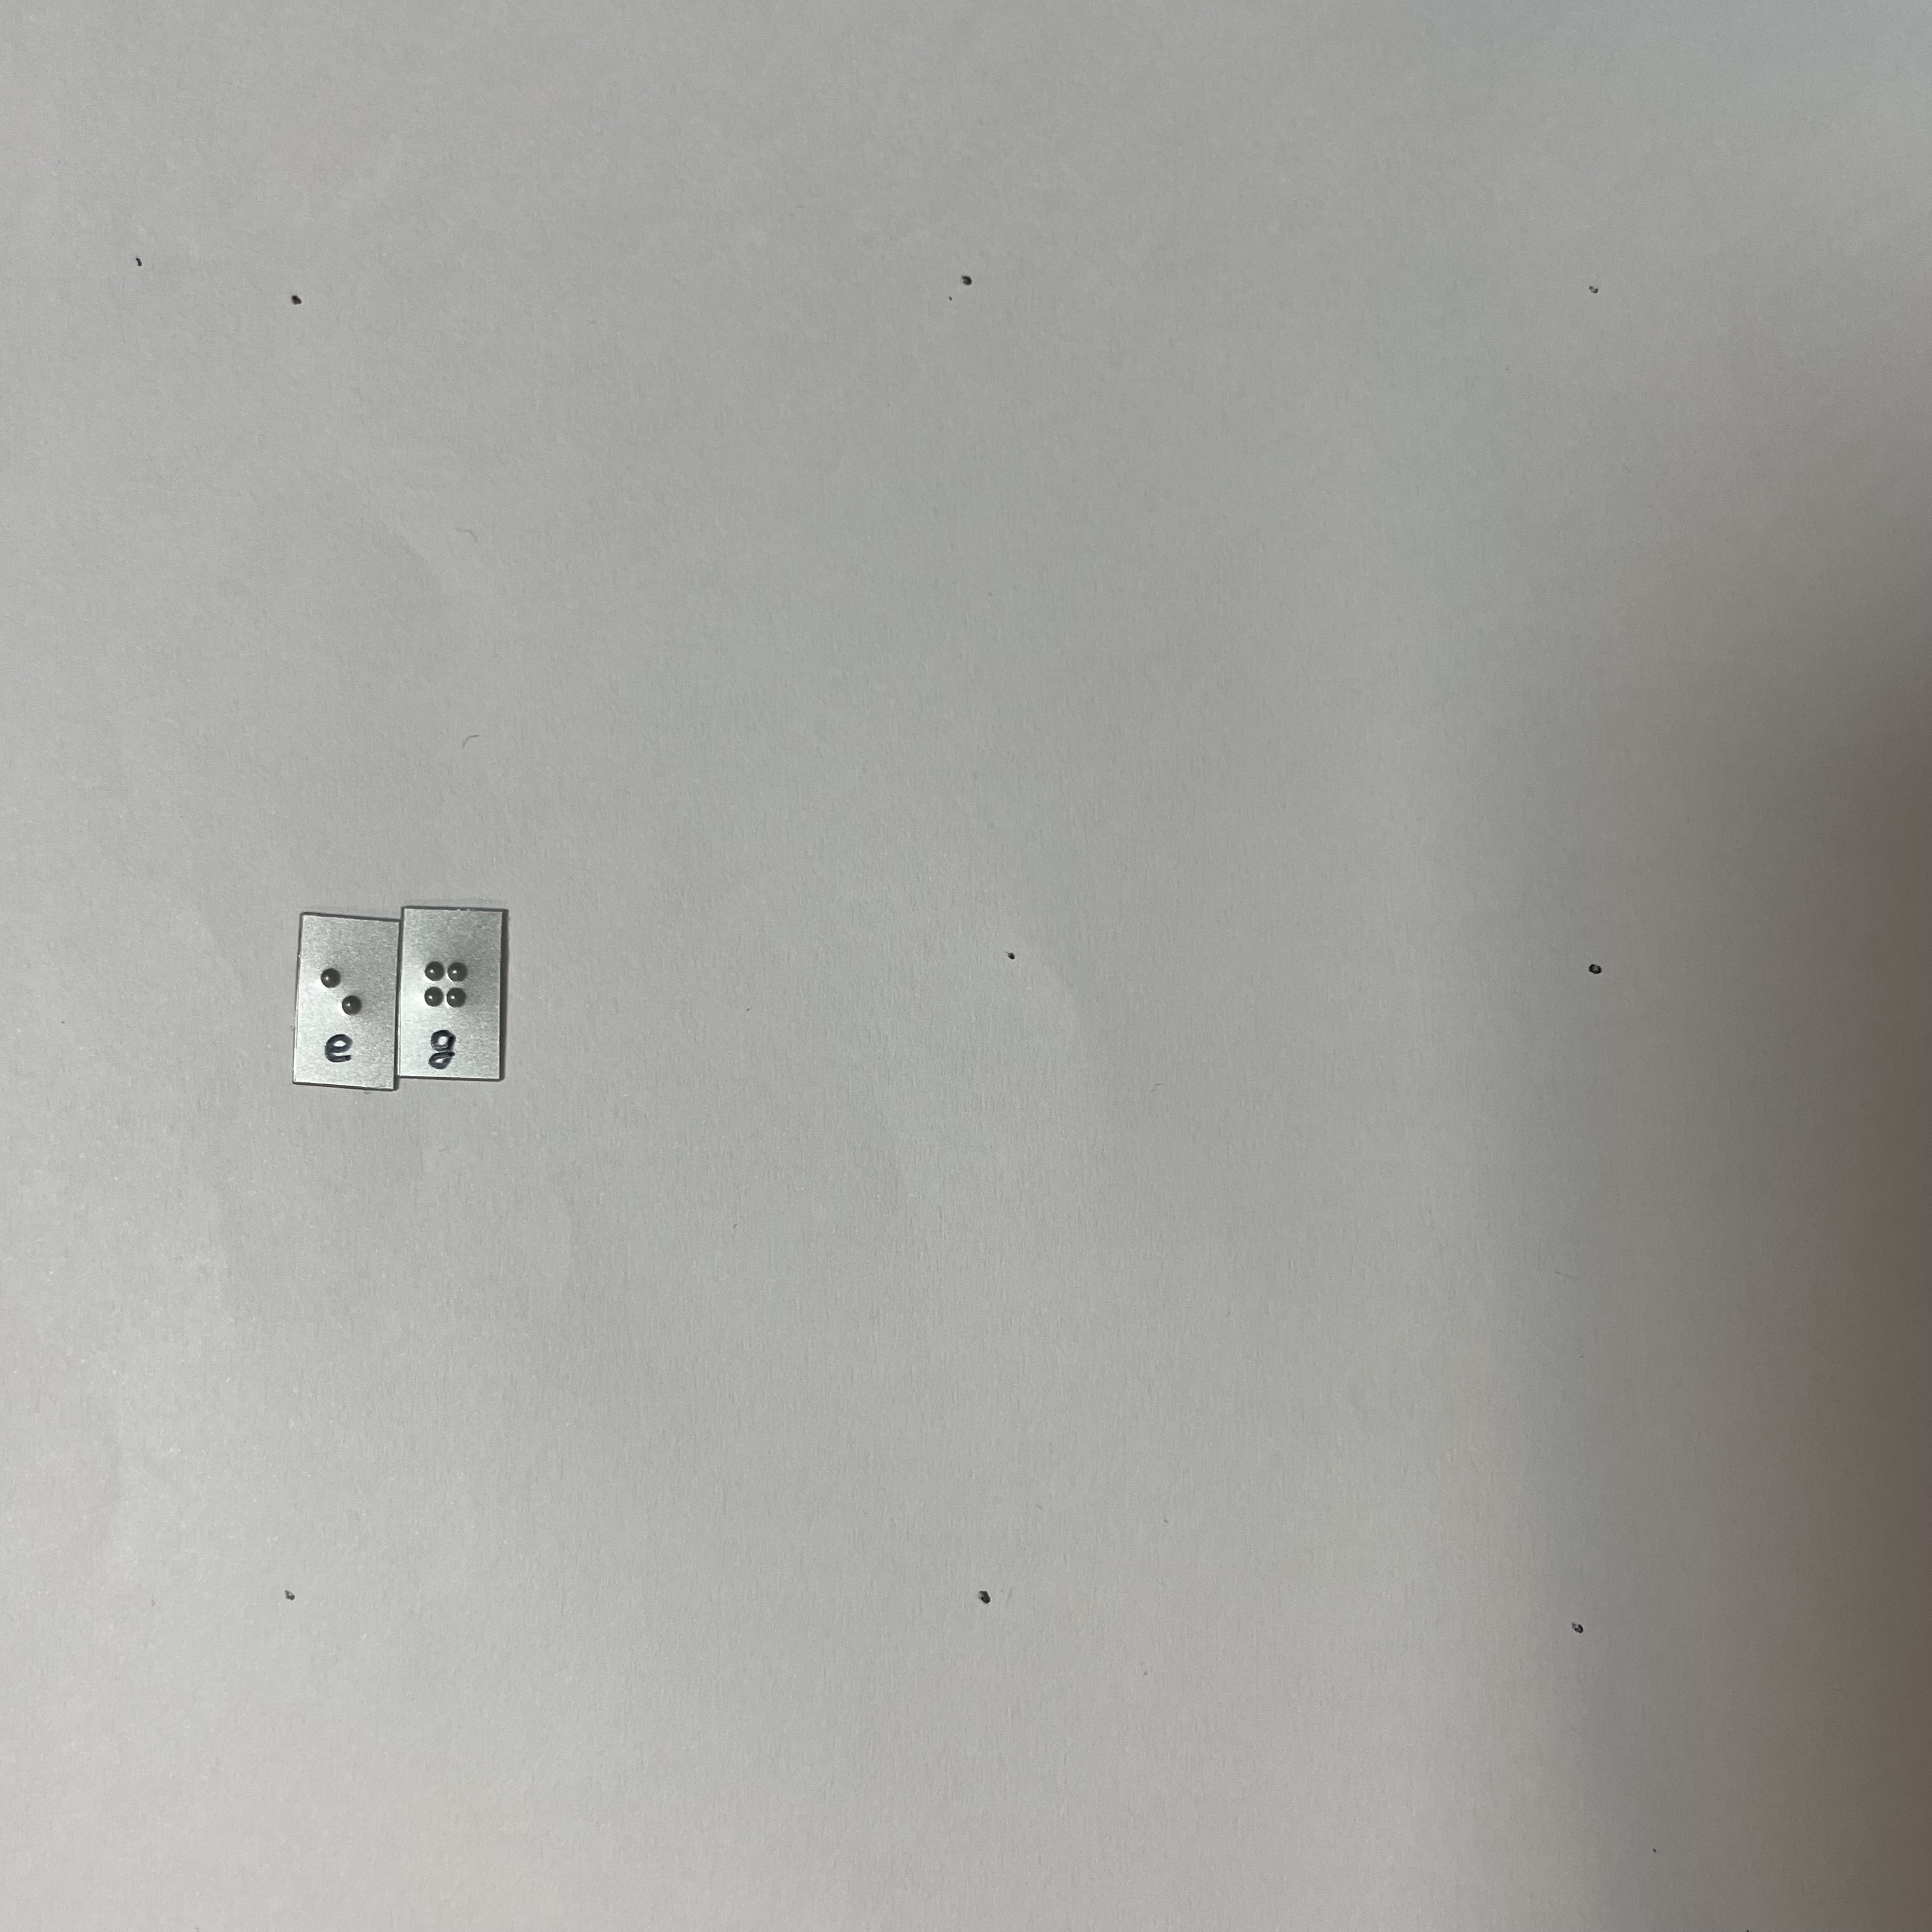e: (419, 951, 477, 1024)
g: (311, 958, 372, 1033)
